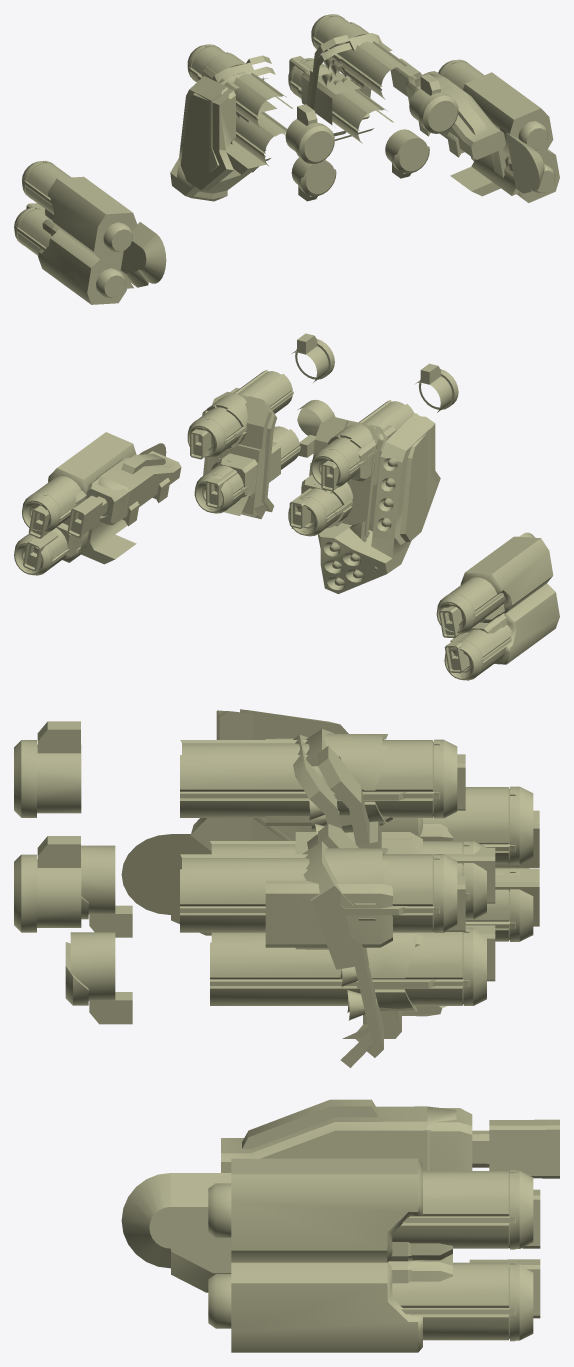
Rendered from JavelinWeapons.glb.
The picture shows the model from 3 angles, top to bottom: view 1: azimuth 30°, elevation 25°; view 2: azimuth 150°, elevation 25°; view 3: azimuth 270°, elevation 25°; orthographic projection. The views are drawn at different scales.
Parts seen in each view (by area): view 1: Forearm_Left_EH1_PPC, Torso_Right_EH1_PPC, Forearm_Left_EH2_PPC, Torso_Left_EH1_PPC, Forearm_Right_EH1_PPC, Torso_Right_EH2_PPC, Torso_Left_EH2_PPC, Torso_Left_MH2_Missile4, Forearm_Right_EH3_Laser, Torso_Left_MH2_Missile10, Forearm_Right_EH2_PPC, Forearm_Left_EH1_Flamer (+13 smaller); view 2: Torso_Left_MH2_Missile10, Forearm_Left_EH1_PPC, Torso_Right_EH1_PPC, Forearm_Left_EH2_PPC, Torso_Left_EH1_PPC, Forearm_Right_EH1_PPC, Torso_Right_EH2_PPC, Forearm_Right_EH3_Laser, Forearm_Right_EH3_Flamer, Torso_Left_MH2_Missile4, Torso_Left_EH2_PPC, Forearm_Right_EH2_PPC (+19 smaller); view 3: Forearm_Right_EH1_PPC, Forearm_Right_EH2_PPC, Torso_Left_EH1_PPC, Torso_Right_EH1_PPC, Torso_Right_EH2_PPC, Forearm_Right_EH3_Laser, Torso_Left_EH2_PPC, Torso_Right_EH1_Laser, Forearm_Left_EH1_PPC, Forearm_Left_EH1_Laser, Forearm_Right_EH3_Flamer, Forearm_Right_EH2_Flamer (+16 smaller).
Part boxes in pixels (x1,y1,x2,y2): Forearm_Left_EH1_PPC: (21,160,160,283); Torso_Right_EH1_PPC: (311,14,458,133); Forearm_Left_EH2_PPC: (14,207,148,304); Torso_Left_EH1_PPC: (187,44,334,163); Forearm_Right_EH1_PPC: (438,59,553,175); Torso_Right_EH2_PPC: (288,58,429,178); Torso_Left_EH2_PPC: (230,112,336,201); Torso_Left_MH2_Missile4: (180,88,233,190); Forearm_Right_EH3_Laser: (406,71,505,159); Torso_Left_MH2_Missile10: (170,76,265,196); Forearm_Right_EH2_PPC: (471,149,559,202); Forearm_Left_EH1_Flamer: (122,222,166,283); Torso_Left_MH2_Missile10: (318,417,436,591); Forearm_Left_EH1_PPC: (436,536,553,633); Torso_Right_EH1_PPC: (187,333,334,458); Forearm_Left_EH2_PPC: (444,583,559,680); Torso_Left_EH1_PPC: (311,363,458,487); Forearm_Right_EH1_PPC: (22,432,155,532); Torso_Right_EH2_PPC: (194,399,335,519); Forearm_Right_EH3_Laser: (86,451,181,525); Forearm_Right_EH3_Flamer: (67,459,181,537); Torso_Left_MH2_Missile4: (399,413,440,542); Torso_Left_EH2_PPC: (288,462,369,537); Forearm_Right_EH2_PPC: (14,522,127,575); Forearm_Right_EH1_PPC: (121,1158,533,1267); Forearm_Right_EH2_PPC: (171,1251,533,1352); Torso_Left_EH1_PPC: (14,721,457,845); Torso_Right_EH1_PPC: (14,836,457,969); Torso_Right_EH2_PPC: (65,927,486,1053); Forearm_Right_EH3_Laser: (221,1099,472,1172); Torso_Left_EH2_PPC: (81,821,486,937); Torso_Right_EH1_Laser: (275,824,392,947); Forearm_Left_EH1_PPC: (380,786,533,864); Forearm_Left_EH1_Laser: (121,824,453,914); Forearm_Right_EH3_Flamer: (371,1100,559,1178); Forearm_Right_EH2_Flamer: (171,1248,540,1318).
Size of the model in its own units: 1.32 by 0.5168 by 0.6982.
